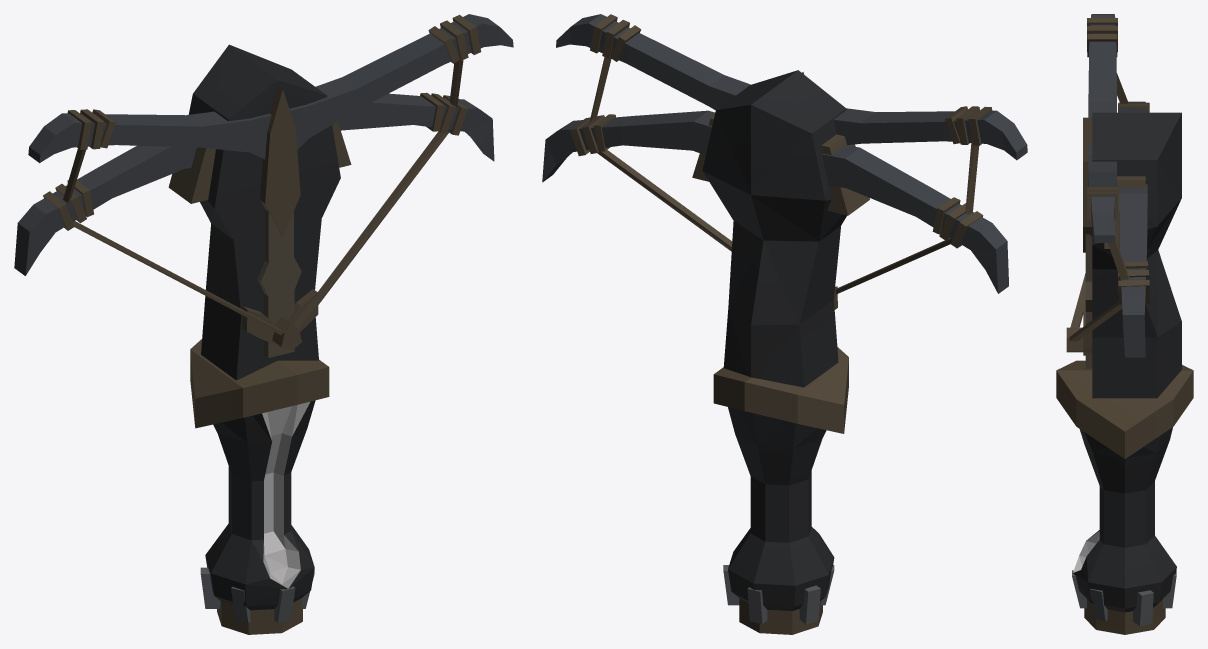
The model's file is _crossbow_23.glb.
3 renders of one model, left to right at view 1: azimuth 30°, elevation 25°; view 2: azimuth 150°, elevation 25°; view 3: azimuth 270°, elevation 25°, orthographic. The views are drawn at different scales.
Visible parts, largest first — view 1: crossbow_23; view 2: crossbow_23; view 3: crossbow_23.
Boxes of the visible parts, <box> form: crossbow_23: <box>14,14,513,634</box>; crossbow_23: <box>542,14,1027,634</box>; crossbow_23: <box>1056,14,1193,634</box>.
Size of the model in its own units: 18655 by 20952 by 5097.
Materials: 1 (1 with a texture image).
